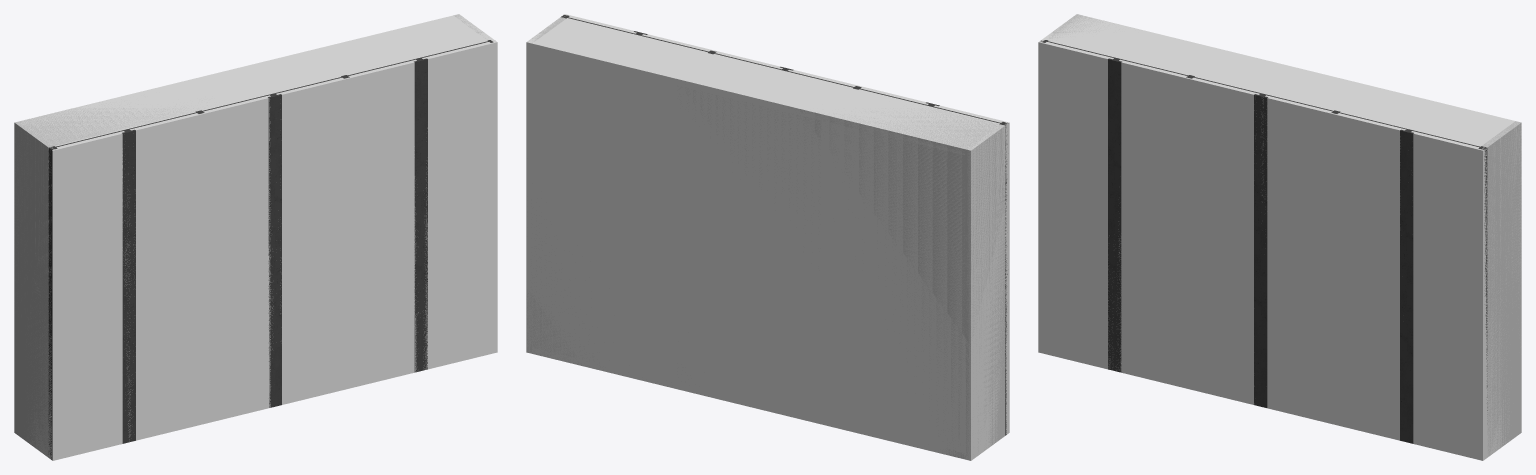
The model's file is SM_DisplayShelf.fbx.
3 renders of one model, left to right at view 1: azimuth 30°, elevation 25°; view 2: azimuth 150°, elevation 25°; view 3: azimuth 330°, elevation 25°, orthographic.
Visible parts, largest first — view 1: SM_DisplayShelf_ConvexHulls, SM_DisplayShelf_LOD0; view 2: SM_DisplayShelf_ConvexHulls, SM_DisplayShelf_LOD0; view 3: SM_DisplayShelf_ConvexHulls, SM_DisplayShelf_LOD0.
Boxes of the visible parts, x1=… form: SM_DisplayShelf_ConvexHulls: x1=14, y1=14, x2=497, y2=460; SM_DisplayShelf_LOD0: x1=14, y1=14, x2=493, y2=459; SM_DisplayShelf_ConvexHulls: x1=526, y1=14, x2=1009, y2=460; SM_DisplayShelf_LOD0: x1=526, y1=15, x2=1008, y2=460; SM_DisplayShelf_ConvexHulls: x1=1038, y1=14, x2=1521, y2=460; SM_DisplayShelf_LOD0: x1=1040, y1=14, x2=1521, y2=456.
Bounding box in the file's own units: 300 × 45 × 200.
